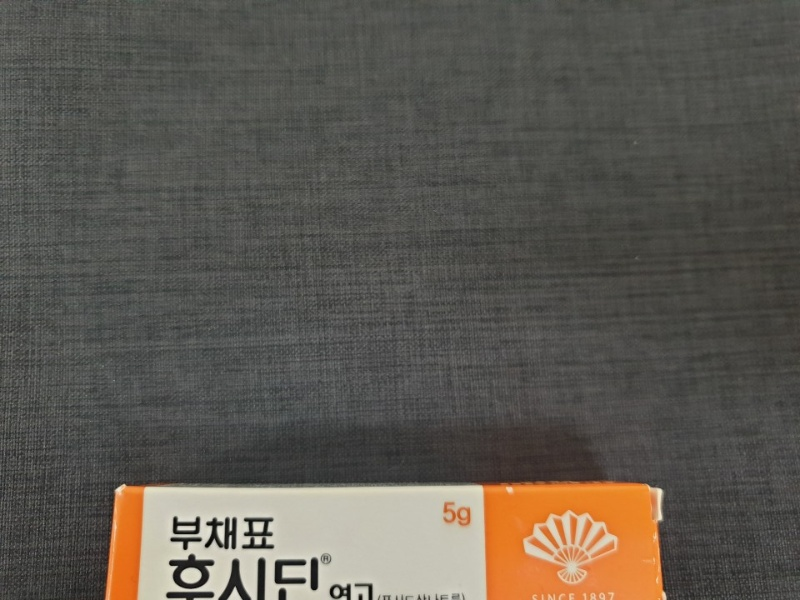fucidin: (107, 488, 662, 600)
